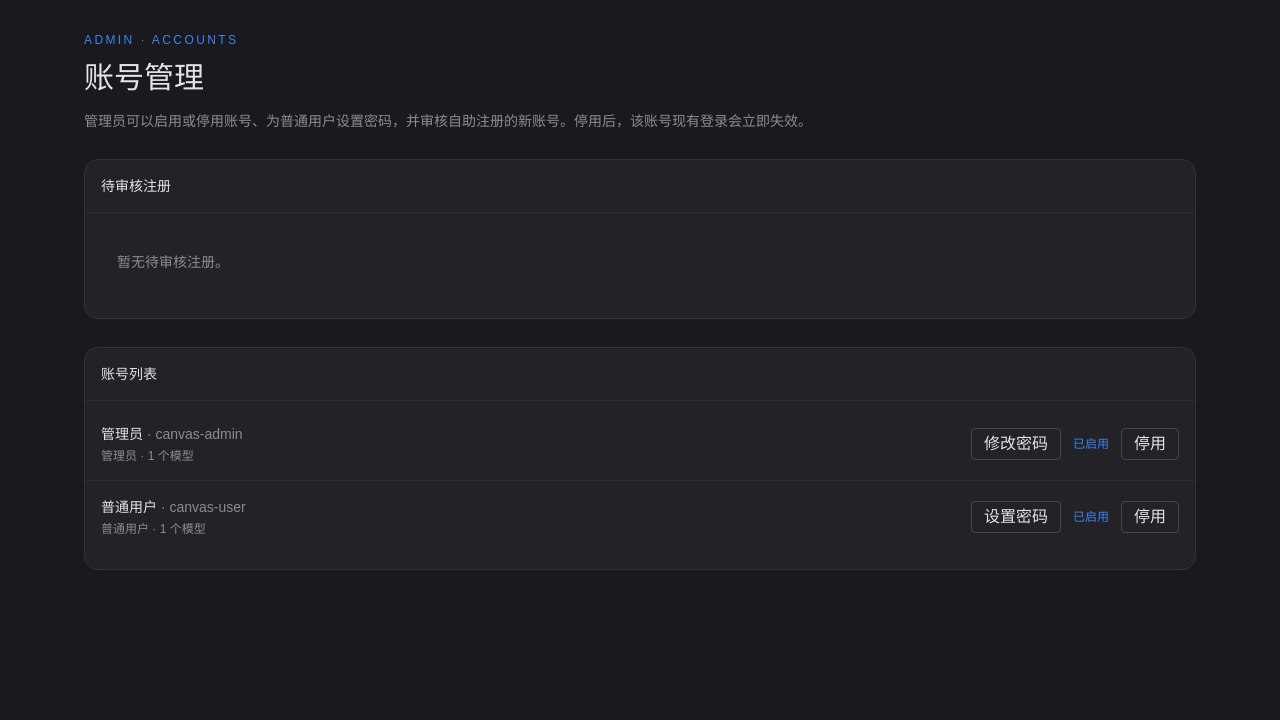
Test: lets an administrator disable an account without exposing sensitive fields
Click the button with aria-label "停用 canvas-user" at (1150, 517), box [1121,501,1179,533]
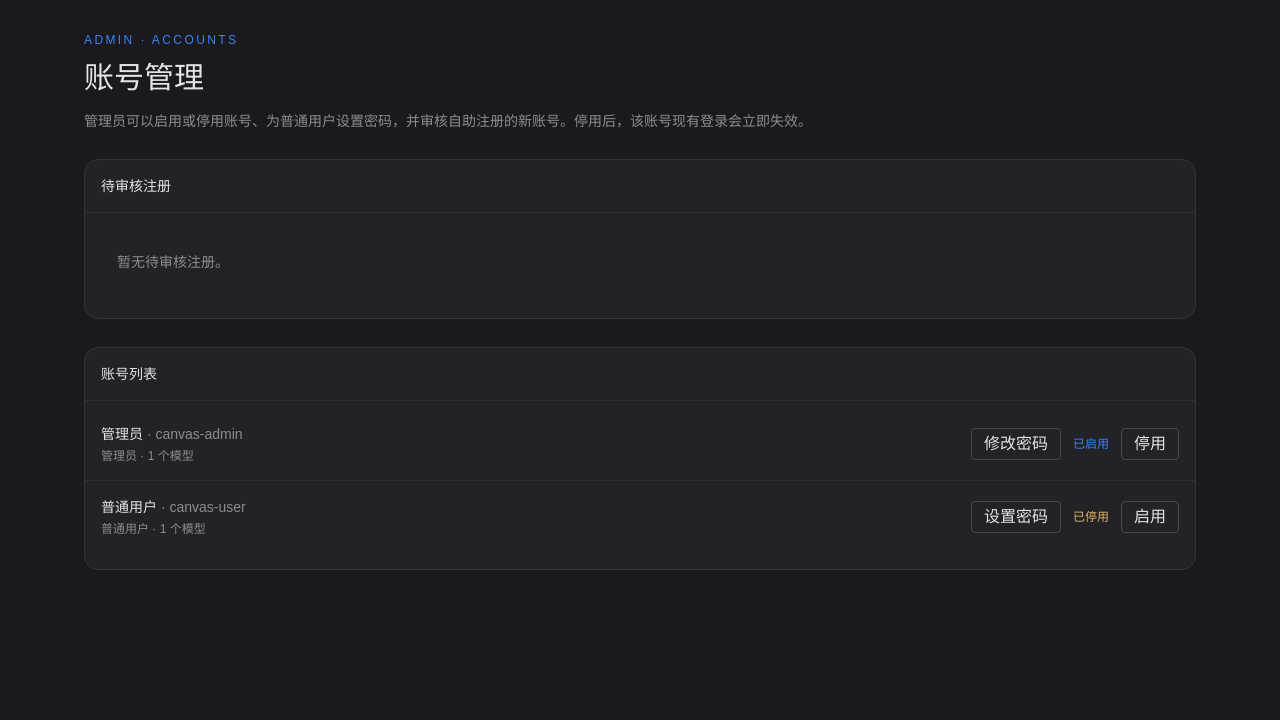
Expected: the text "已停用" is shown, [1073,509,1109,525]
